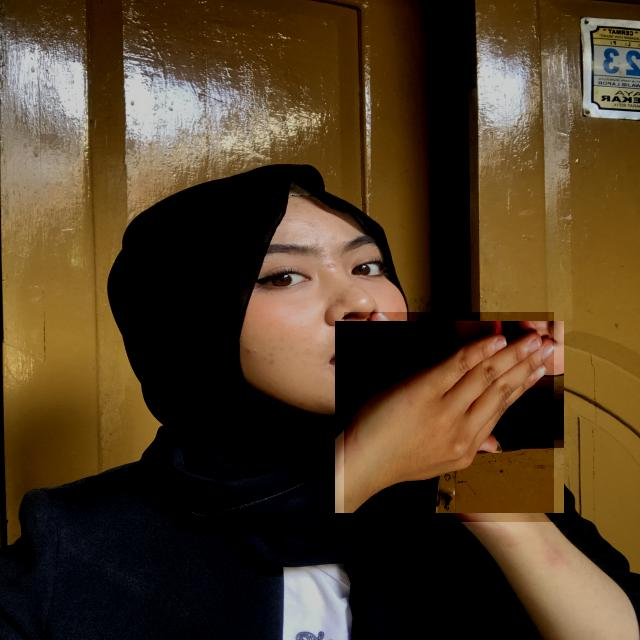ngantuk: (344, 312, 554, 522)
